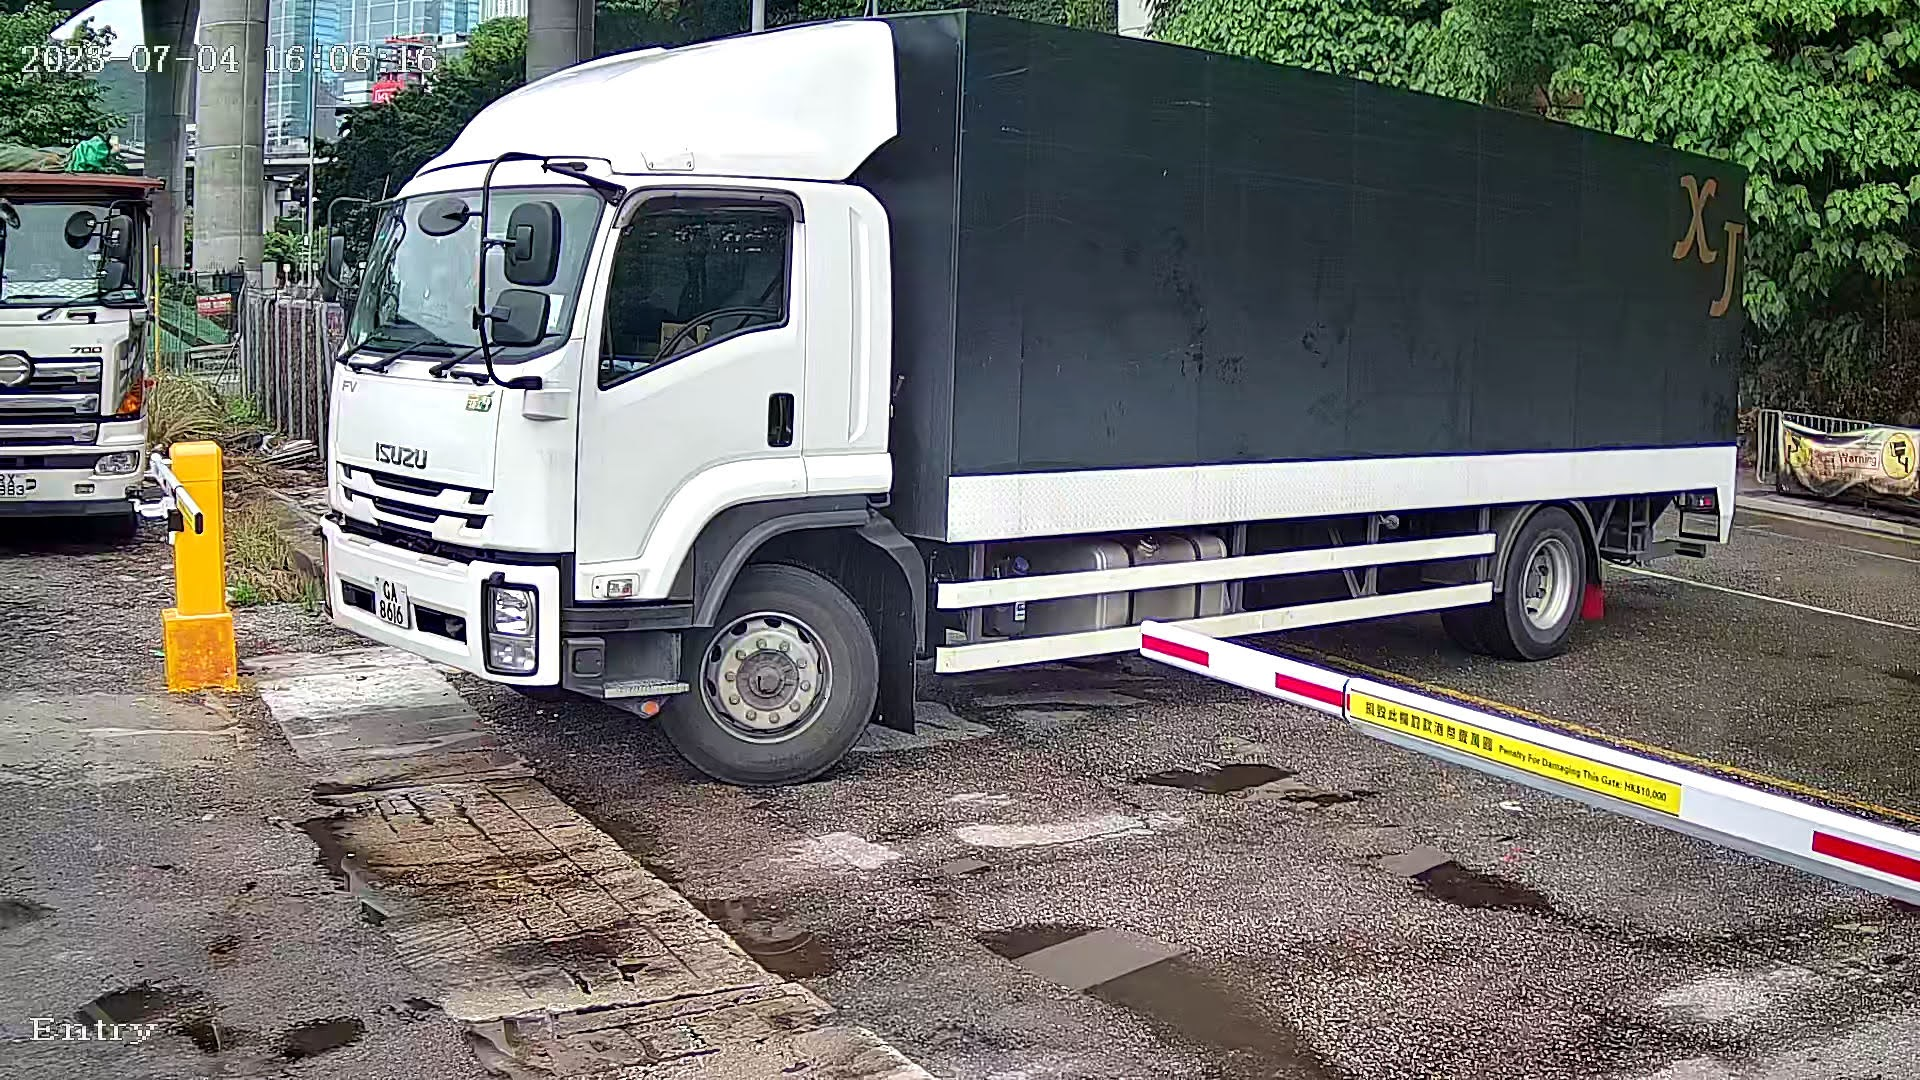truck: (316, 11, 1766, 785)
